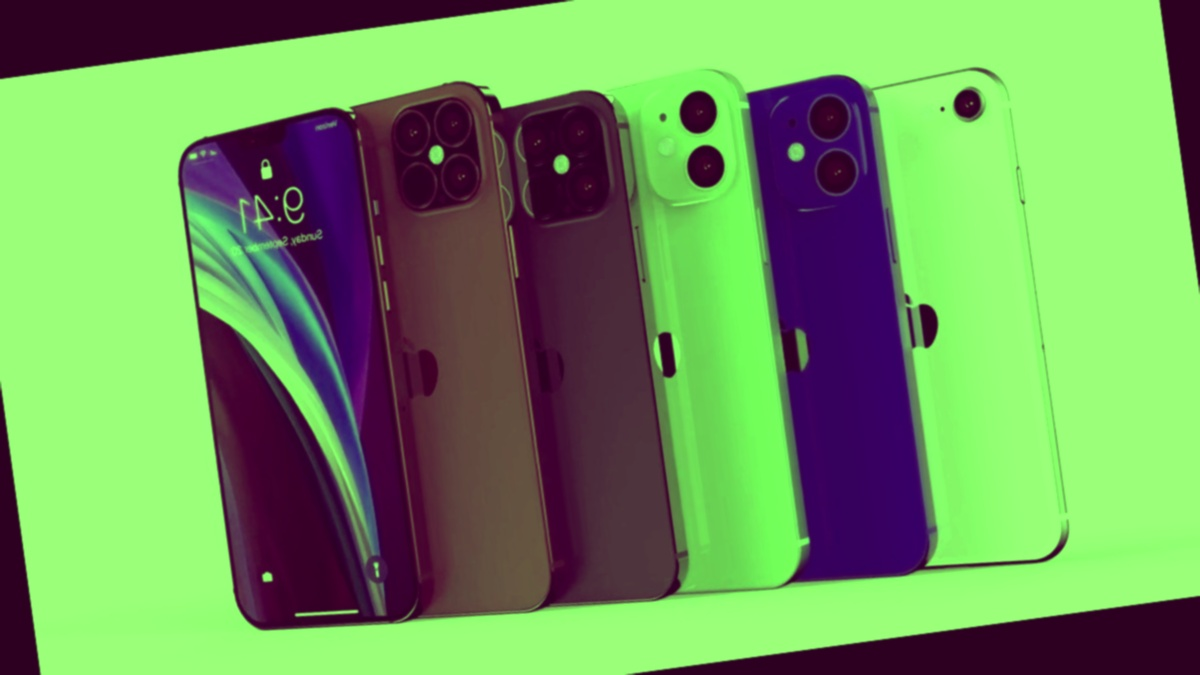iphone: (800, 73, 997, 593)
